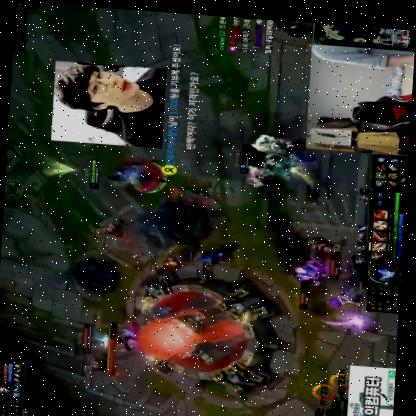donation: (51, 35, 201, 173)
streamer: (310, 39, 415, 65)
